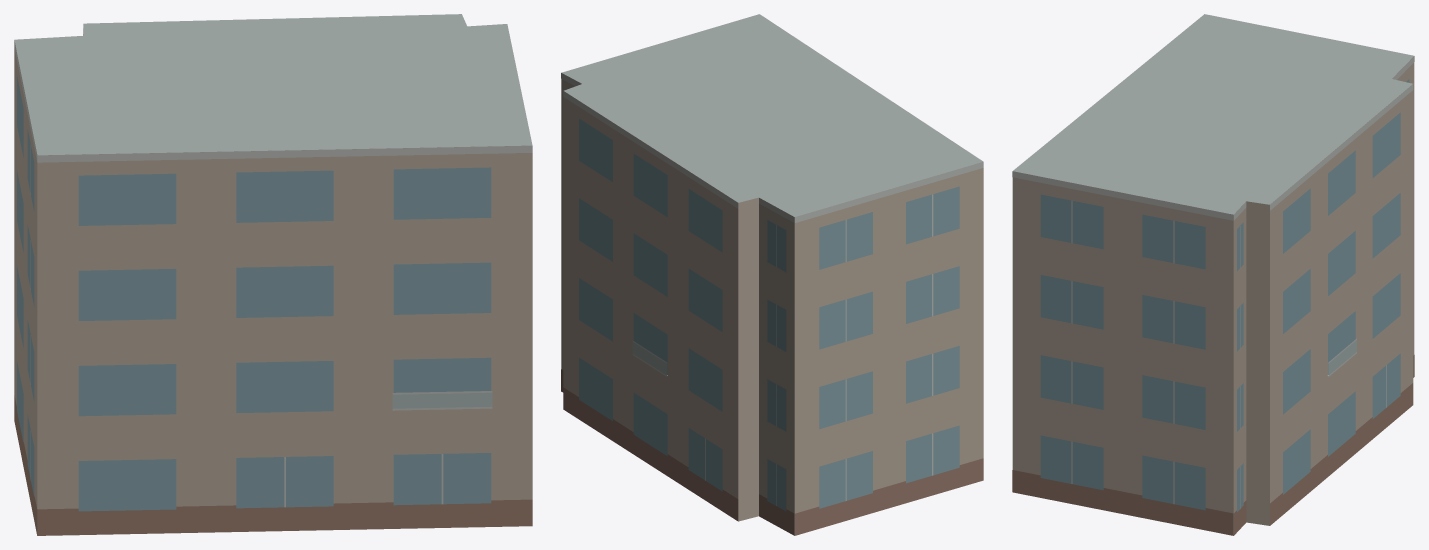
File: survey-upis-32890950.glb
3 views of the same model, side by side, from view 1: azimuth 30°, elevation 25°; view 2: azimuth 150°, elevation 25°; view 3: azimuth 270°, elevation 25° (orthographic). The views are drawn at different scales.
Parts seen in each view (by area): view 1: survey-upis-32890950.tmp; view 2: survey-upis-32890950.tmp; view 3: survey-upis-32890950.tmp.
Boxes of the visible parts, x1=… form: survey-upis-32890950.tmp: x1=14, y1=14, x2=532, y2=535; survey-upis-32890950.tmp: x1=561, y1=14, x2=983, y2=535; survey-upis-32890950.tmp: x1=1012, y1=14, x2=1414, y2=535.
Bounding box in the file's own units: 17.16 × 12.8 × 14.53.
